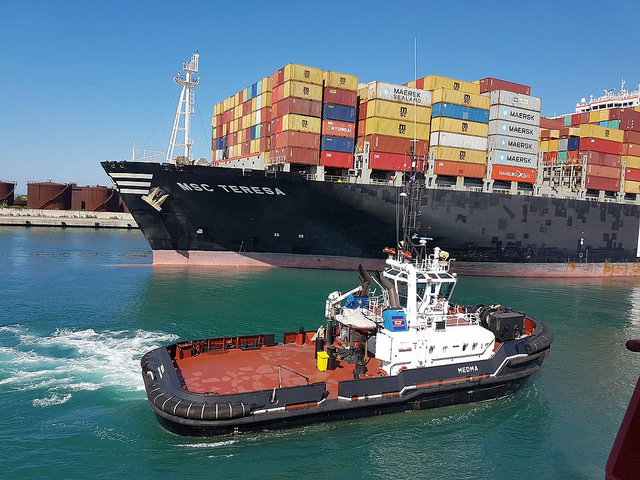container_ship: (93, 27, 633, 276)
tug_boat: (152, 208, 562, 430)
